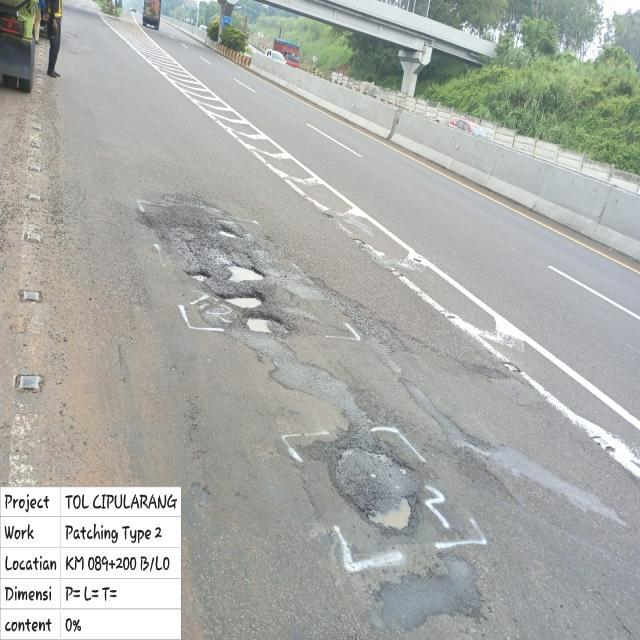Buraco: (304, 434, 422, 540), (236, 309, 296, 336), (214, 285, 269, 310), (219, 260, 268, 286), (209, 222, 246, 241), (182, 265, 214, 285)
